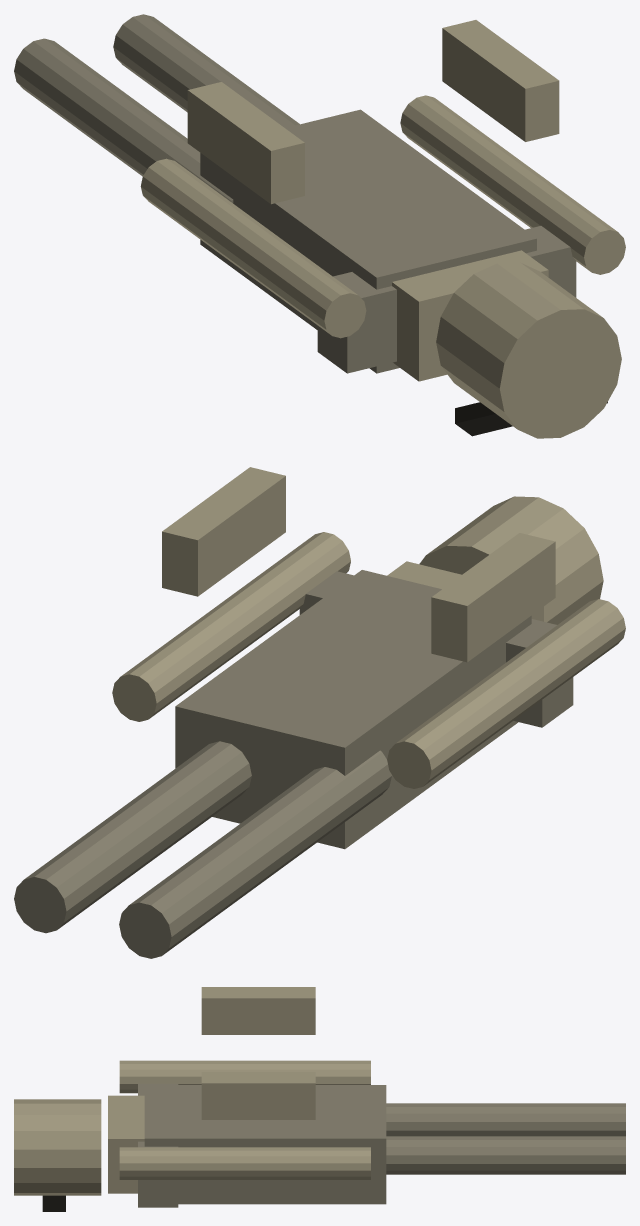
The model's file is enemy_blind_stalker.obj.
3 views of the same model, one above another, from view 1: azimuth 30°, elevation 25°; view 2: azimuth 150°, elevation 25°; view 3: azimuth 270°, elevation 25° (orthographic). The views are drawn at different scales.
Visible parts, largest first — view 1: enemy_blind_stalker; view 2: enemy_blind_stalker; view 3: enemy_blind_stalker.
Boxes of the visible parts, x1=… form: enemy_blind_stalker: x1=14, y1=14, x2=625, y2=438; enemy_blind_stalker: x1=14, y1=467, x2=625, y2=958; enemy_blind_stalker: x1=14, y1=987, x2=625, y2=1211.
Size of the model in its own units: 0.711 by 0.504 by 1.83.
